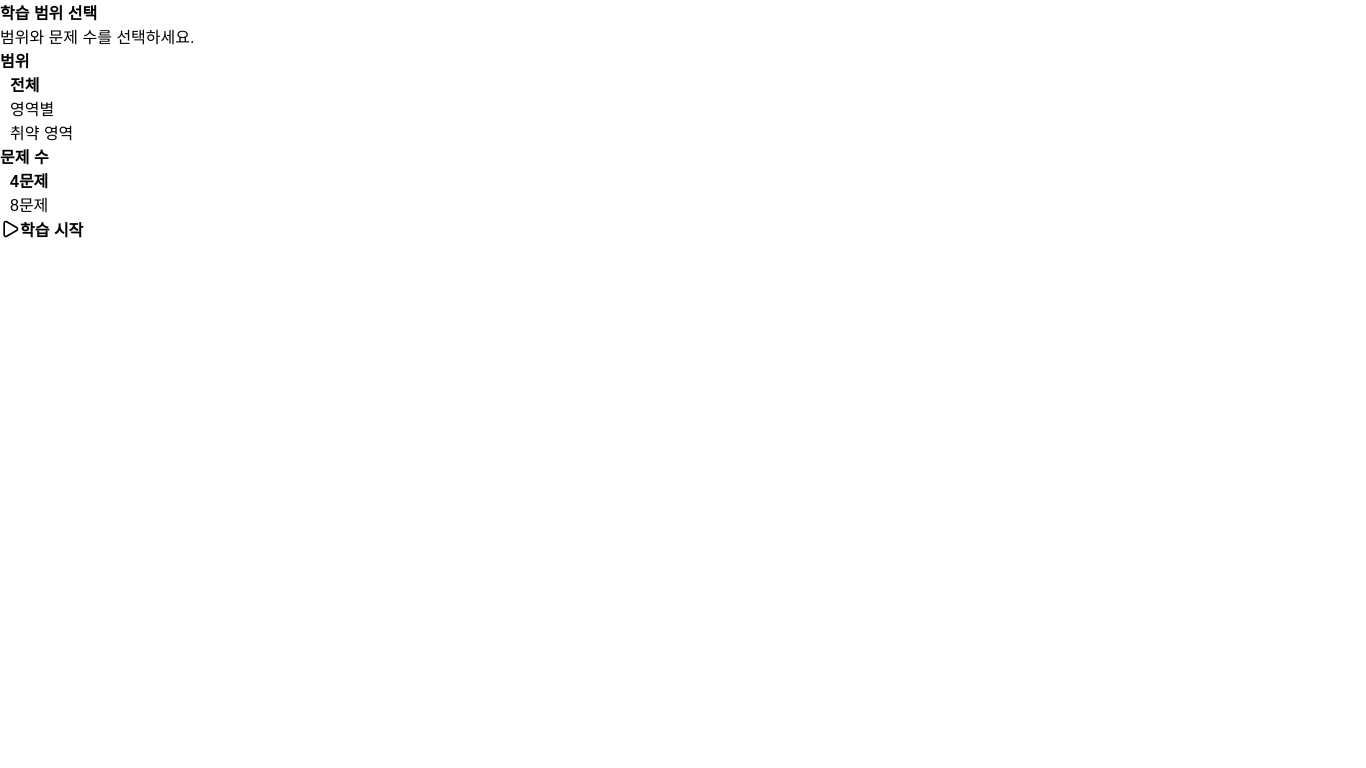
Test: #223 포기 확인 — 정보 위계와 확인 전 API 0 (AC1) › 제목/설명/취소/포기확인이 분리 표시되고 풀이가 유지되며 포기 API는 0회다
What coordinates should you click on to do the following:
click the button "학습 시작"
I would click on:
 (42, 229)
Its box is [0,216,83,242].
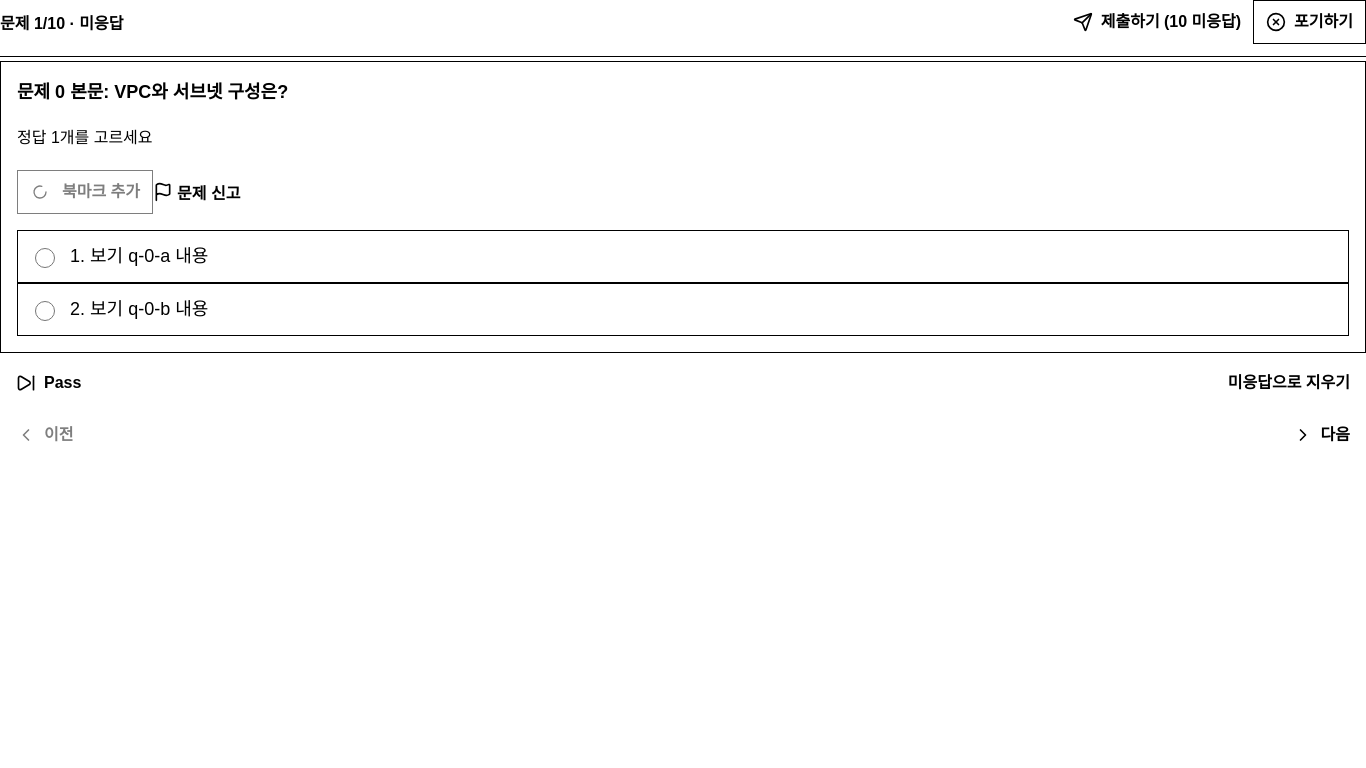
Check: the text "문제 1/10 · 미응답" is shown, box [0,10,124,34]
What coordinates should you click on to do the following:
click the button "포기하기"
I would click on:
 (1310, 22)
Its box is [1253,0,1365,44].
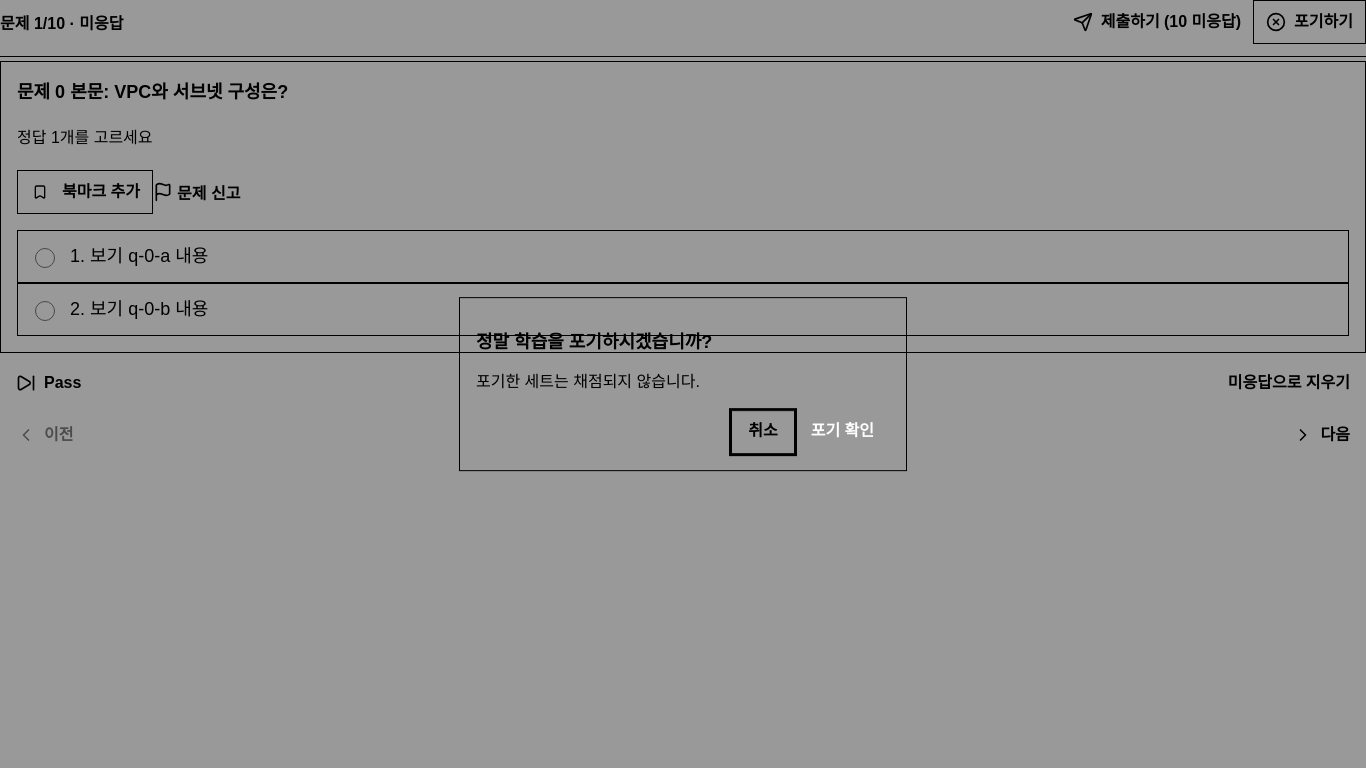
Check: the dialog "정말 학습을 포기하시겠습니까?" is shown, box [459,297,907,471]
Check: the text "포기한 세트는 채점되지 않습니다." is shown, box [476,373,700,390]
Check: the button "취소" is shown, box [731,410,795,454]
